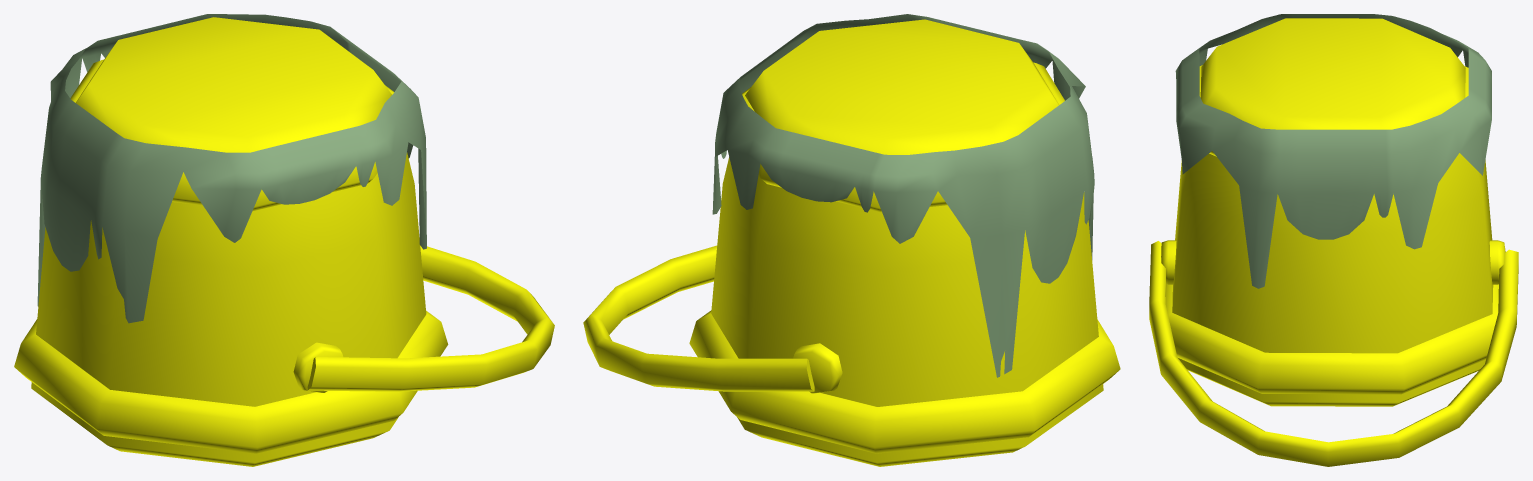
Rendered from Bucket_3.fbx.
3 renders of one model, left to right at view 1: azimuth 30°, elevation 25°; view 2: azimuth 150°, elevation 25°; view 3: azimuth 270°, elevation 25°, orthographic. The views are drawn at different scales.
Visible parts, largest first — view 1: Bucket_3; view 2: Bucket_3; view 3: Bucket_3.
Part boxes in pixels (bbox=[...]): Bucket_3: bbox=[14, 14, 554, 466]; Bucket_3: bbox=[583, 14, 1120, 466]; Bucket_3: bbox=[1149, 14, 1518, 466].
Size of the model in its own units: 61.69 by 38.95 by 47.13.
